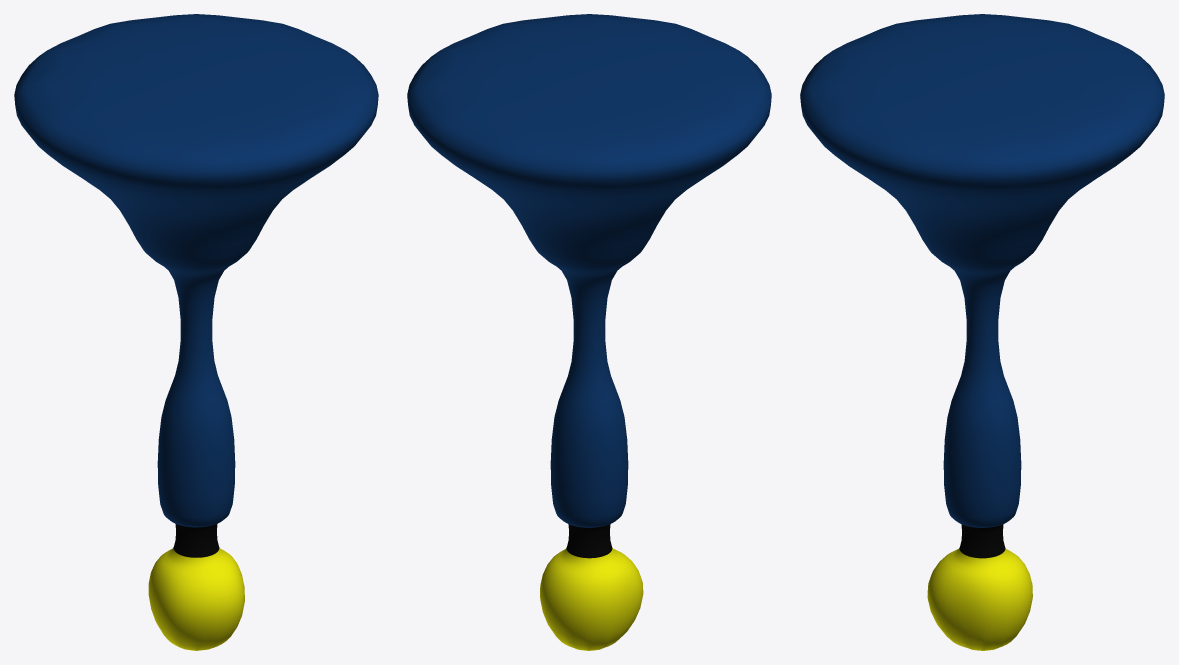
File: lamp.fbx
The picture shows the model from 3 angles, left to right: view 1: azimuth 30°, elevation 25°; view 2: azimuth 150°, elevation 25°; view 3: azimuth 270°, elevation 25°; orthographic projection.
Parts seen in each view (by area): view 1: BulbBase; view 2: BulbBase; view 3: BulbBase.
Boxes of the visible parts, x1,y1,x2,y2 form: BulbBase: [14, 14, 378, 650]; BulbBase: [407, 14, 771, 650]; BulbBase: [800, 14, 1164, 650].
Bounding box in the file's own units: 0.2784 × 0.483 × 0.2784.
